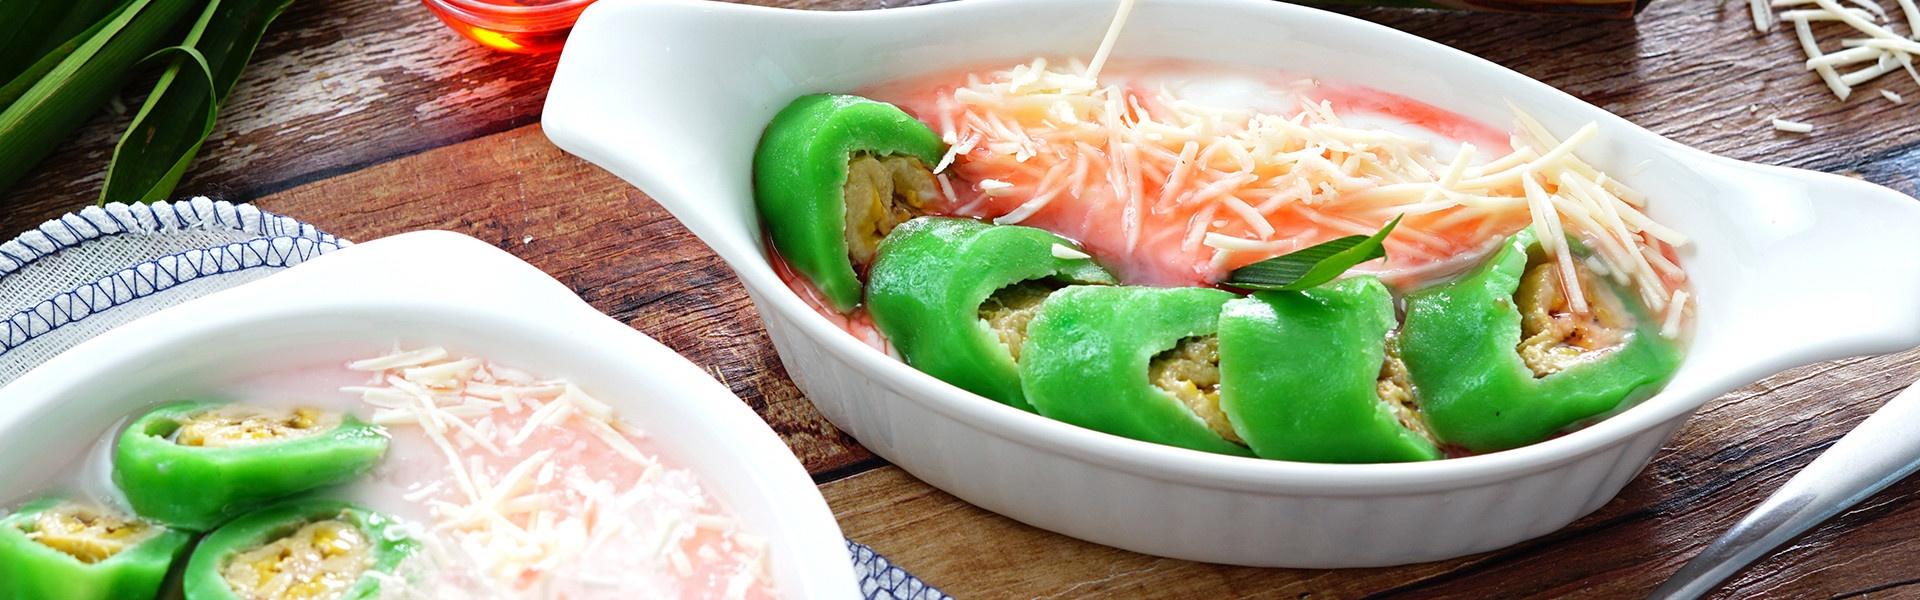es_pisang_ijo: (759, 40, 1700, 456)
